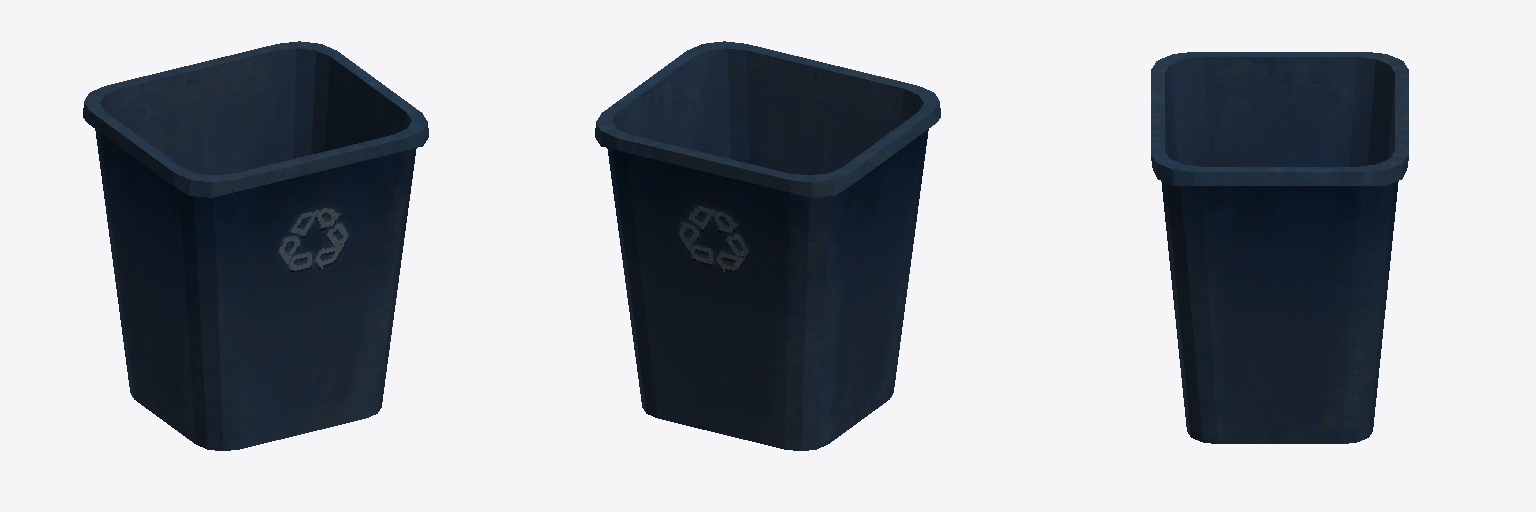
3 renders of one model, left to right at view 1: azimuth 30°, elevation 25°; view 2: azimuth 150°, elevation 25°; view 3: azimuth 270°, elevation 25°, orthographic.
Parts seen in each view (by area): view 1: OBJ_bin; view 2: OBJ_bin; view 3: OBJ_bin.
Boxes of the visible parts, x1,y1,x2,y2 form: OBJ_bin: [83, 41, 428, 450]; OBJ_bin: [595, 41, 940, 450]; OBJ_bin: [1151, 52, 1408, 443].
Bounding box in the file's own units: 91.31 × 101 × 81.59.
1 materials, 1 textured.